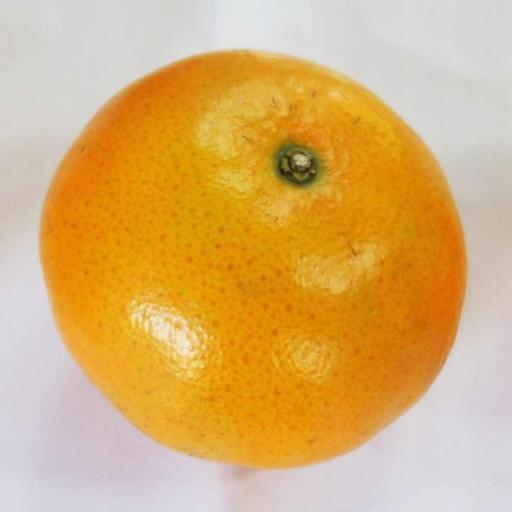fruit: (41, 51, 464, 466)
